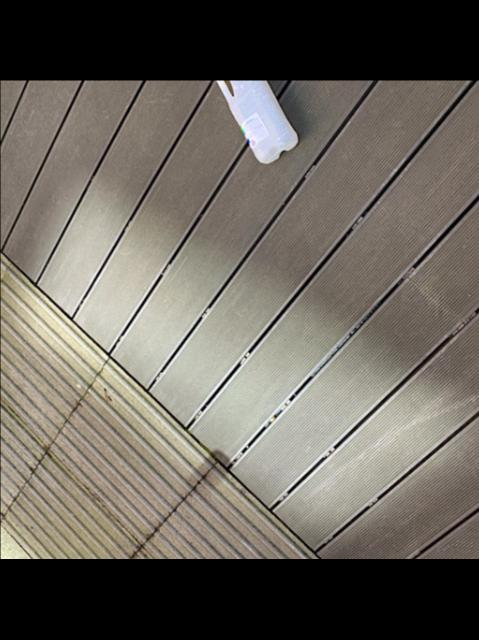plastic: (215, 80, 295, 162)
